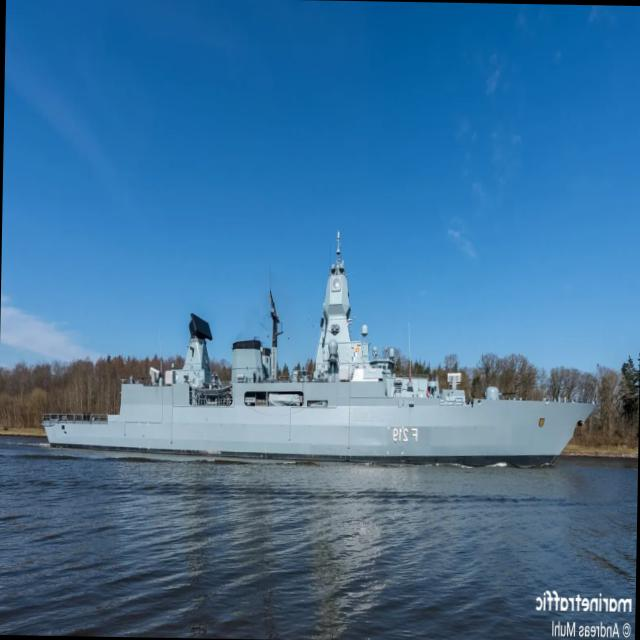Military: (43, 231, 593, 465)
